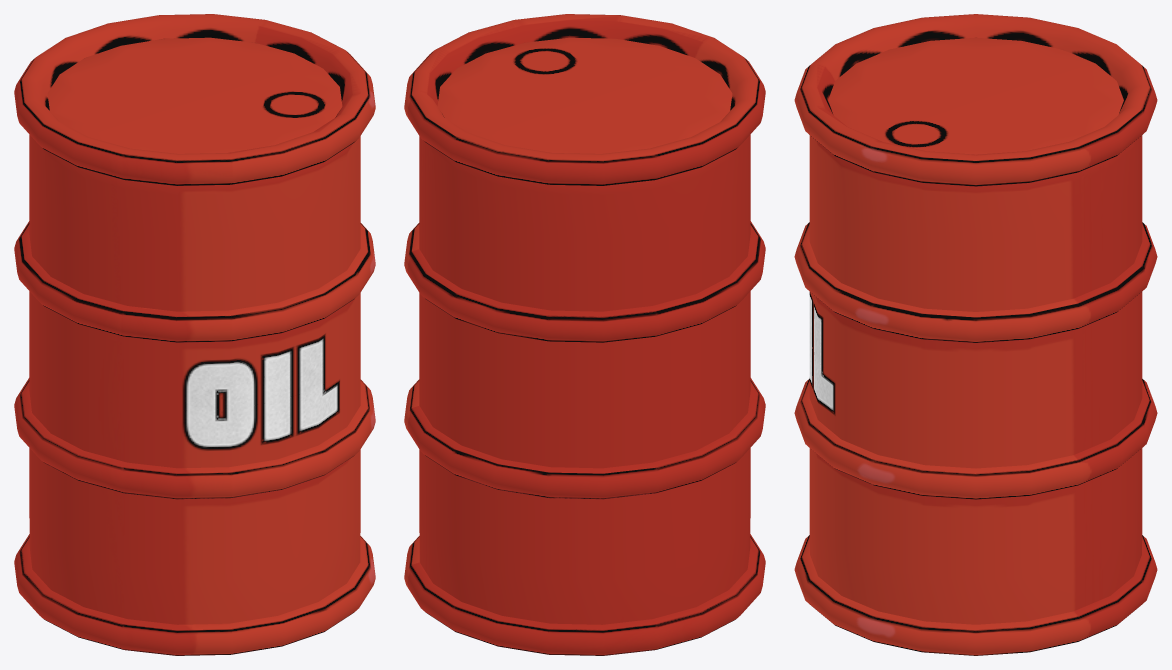
Rendered from Oil_Barrel_High_Poly.glb.
The picture shows the model from 3 angles, left to right: view 1: azimuth 30°, elevation 25°; view 2: azimuth 150°, elevation 25°; view 3: azimuth 270°, elevation 25°; orthographic projection.
Parts seen in each view (by area): view 1: Barrel; view 2: Barrel; view 3: Barrel.
Boxes of the visible parts, left/top/right/bottom form: Barrel: left=14, top=14, right=375, bottom=655; Barrel: left=404, top=14, right=765, bottom=655; Barrel: left=794, top=14, right=1157, bottom=655.
Size of the model in its own units: 2.04 by 3.1 by 2.04.
1 material, 1 textured.
